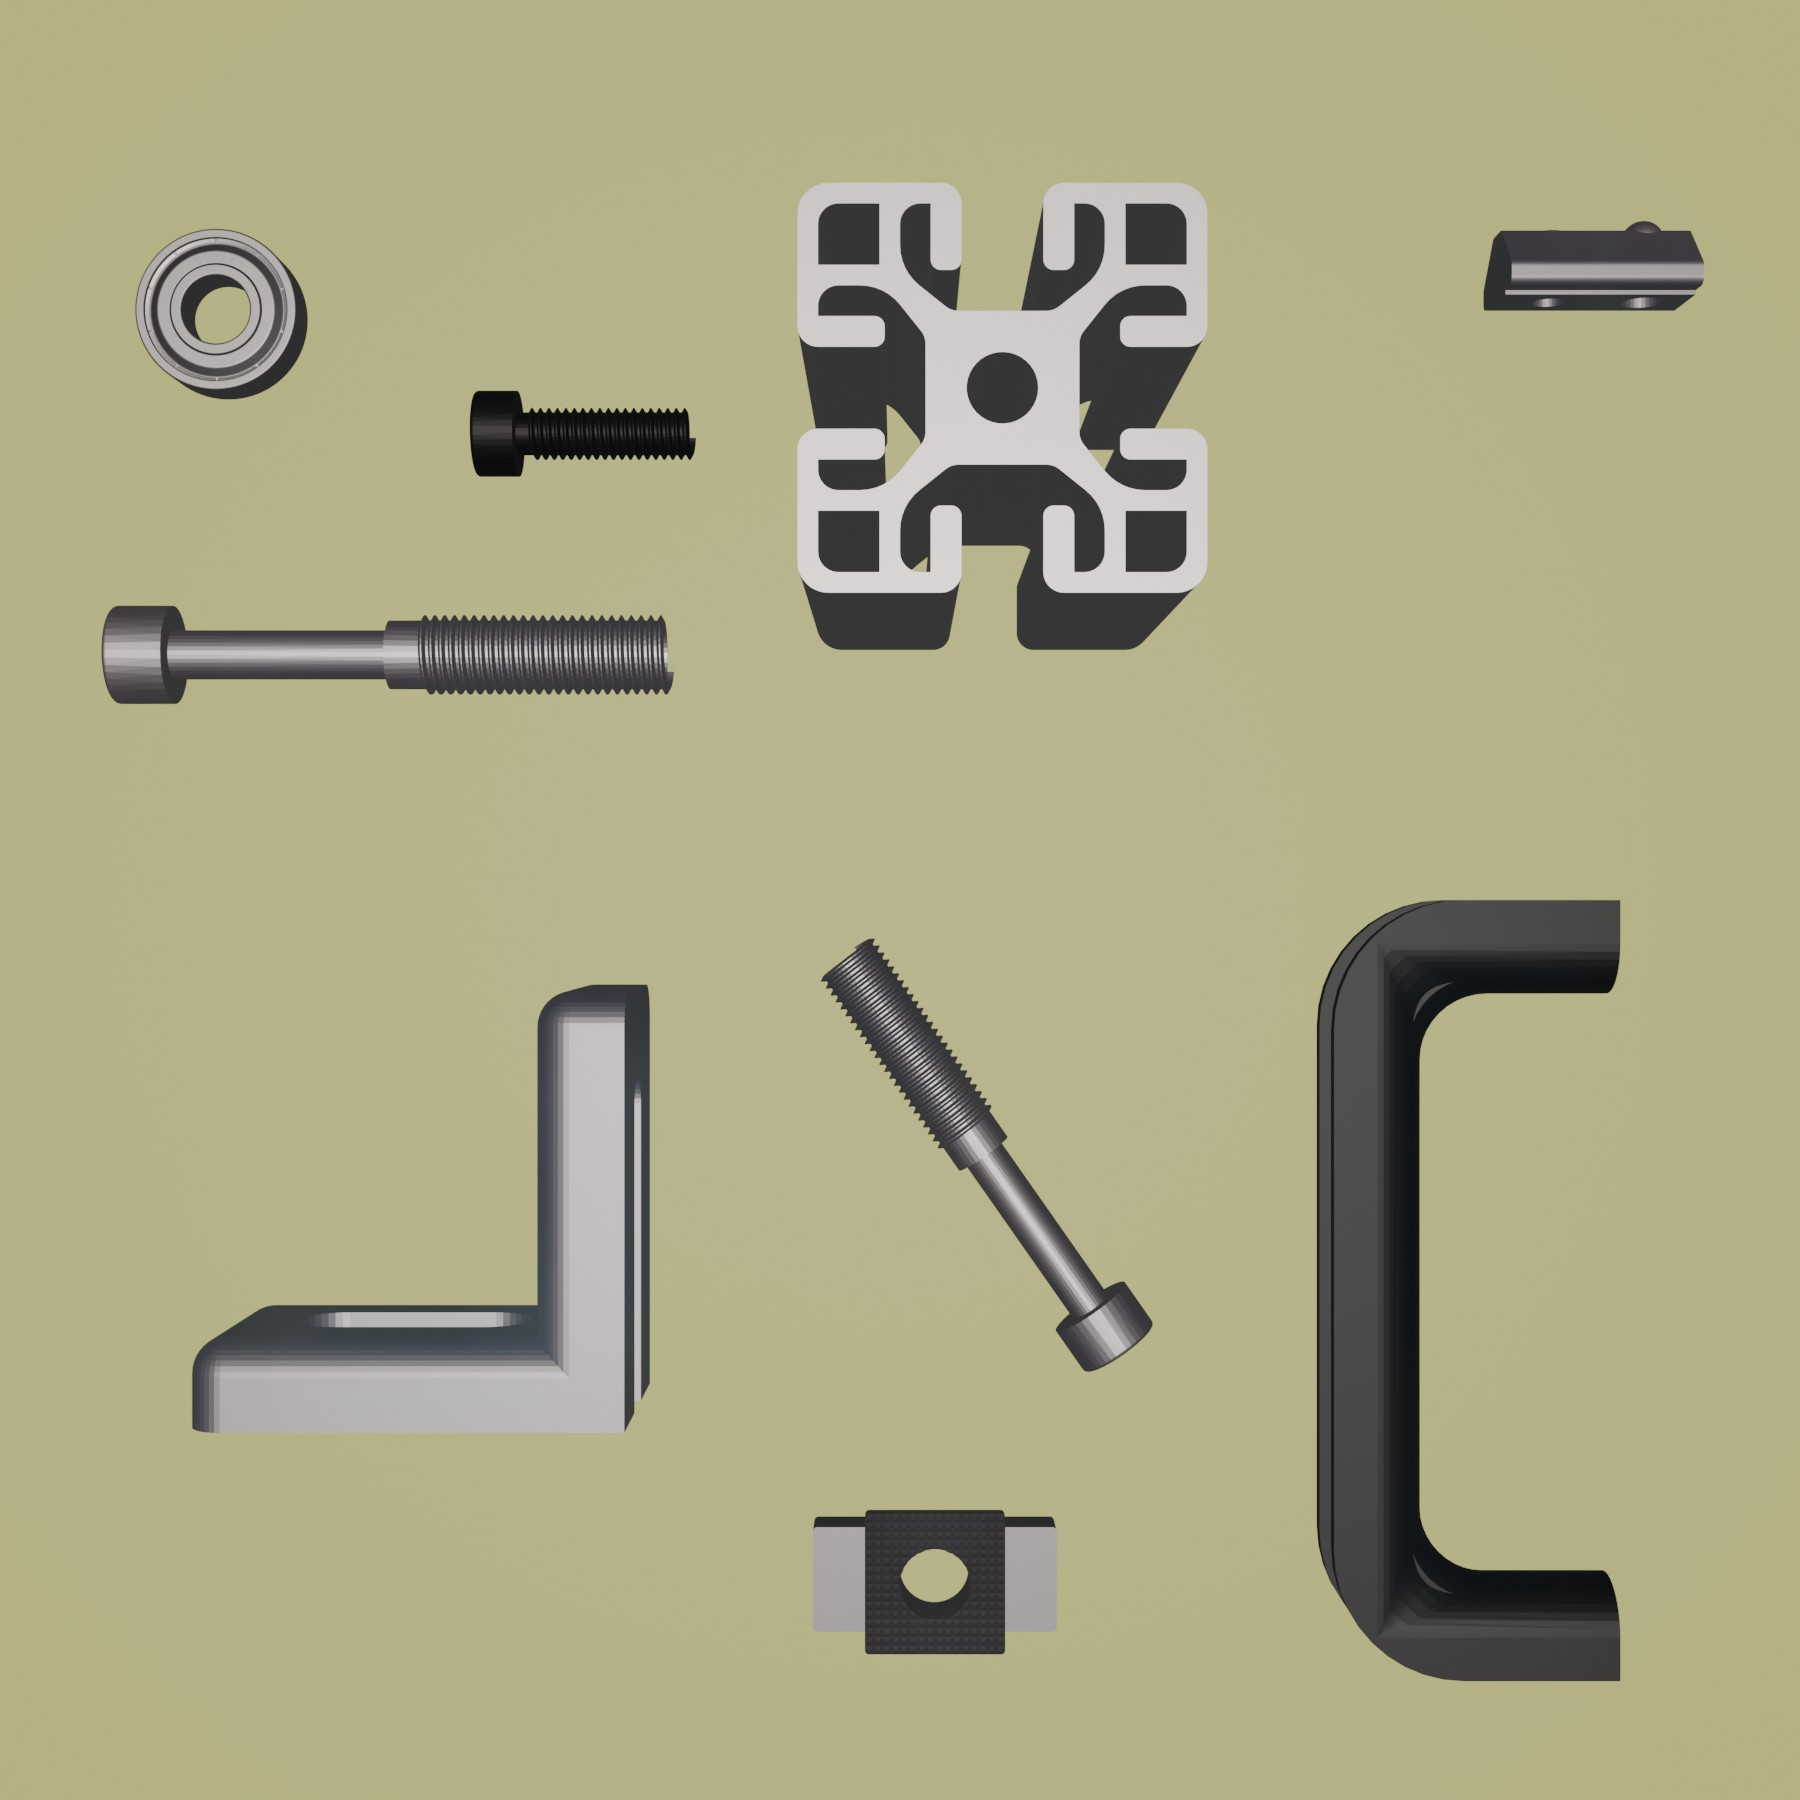Aluminium Extension: (791, 176, 1213, 654)
Ball Bearing: (132, 224, 308, 402)
Multiwinkel: (188, 977, 656, 1442)
Pull Handle: (1310, 892, 1625, 1688)
Shoulder Socket Head Cap Screw: (816, 936, 1155, 1373), (96, 598, 676, 709)
Socket Head Cap Screw: (465, 384, 697, 481)
T Nut Square: (804, 1502, 1062, 1662)
T Spring Nut: (1480, 214, 1708, 318)
